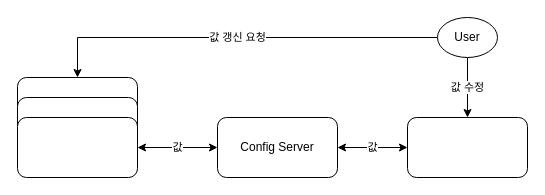
Some shapes in this 545 by 195 pixel diagram are drawn without their labels. Each missing label, with the box of its shape:
Config Client: (16, 116, 138, 178)
Repository (설정값): (406, 116, 528, 178)
